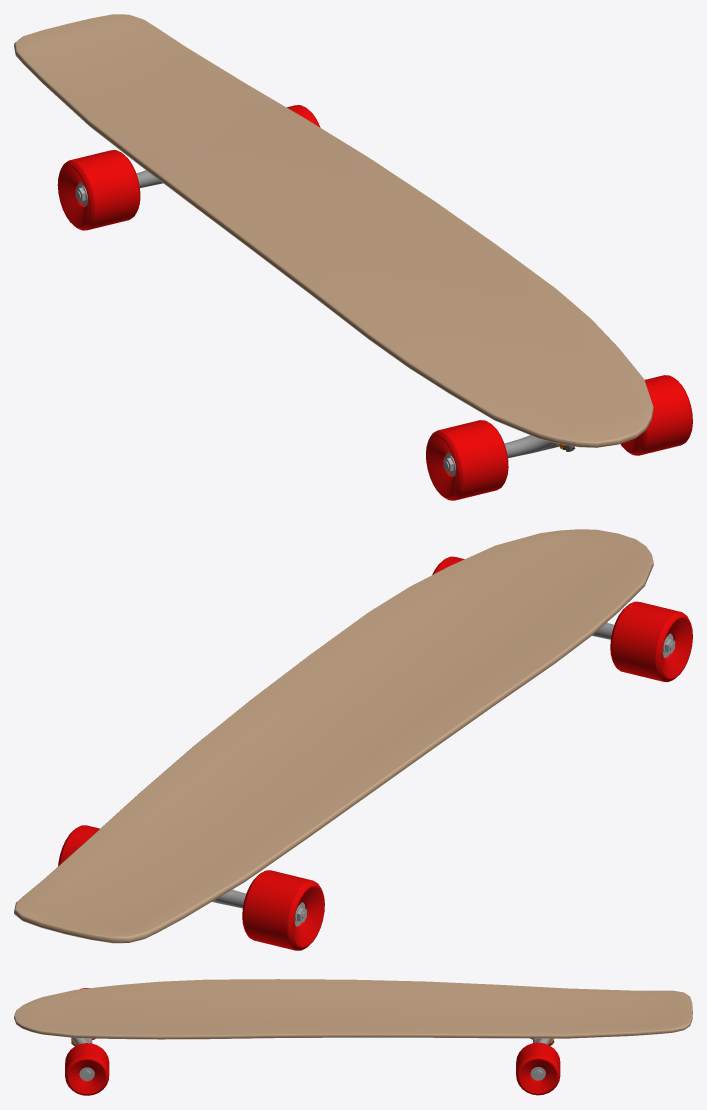
File: board_01.fbx
The picture shows the model from 3 angles, top to bottom: view 1: azimuth 30°, elevation 25°; view 2: azimuth 150°, elevation 25°; view 3: azimuth 270°, elevation 25°; orthographic projection. The views are drawn at different scales.
Visible parts, largest first — view 1: board, pCylinder7 (×3), fAxis; view 2: board, pCylinder7 (×3); view 3: board, pCylinder7 (×2).
Boxes of the visible parts, x1=… form: board: x1=14, y1=14, x2=653, y2=447; pCylinder7 (×3): x1=57, y1=150, x2=692, y2=500; fAxis: x1=504, y1=435, x2=559, y2=458; board: x1=14, y1=529, x2=653, y2=943; pCylinder7 (×3): x1=58, y1=601, x2=692, y2=950; board: x1=14, y1=979, x2=692, y2=1039; pCylinder7 (×2): x1=65, y1=1042, x2=560, y2=1095.
Size of the model in its own units: 3.72 by 1.37 by 15.17.
